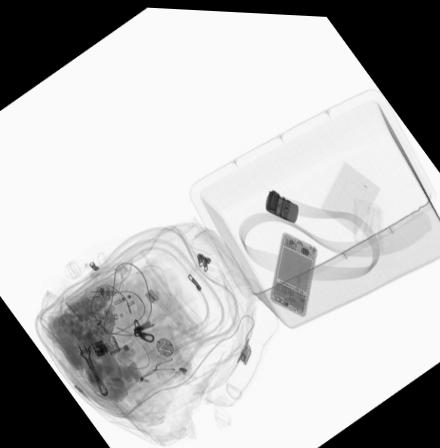Lighter: (85, 308, 115, 341)
